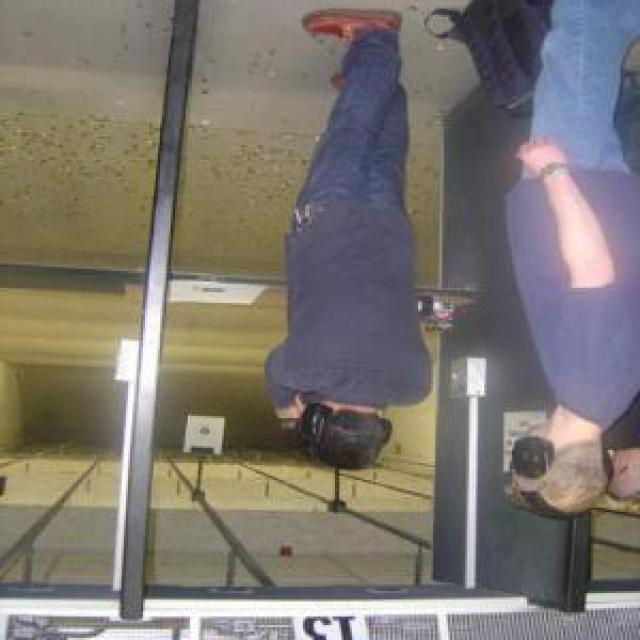pistol: (280, 413, 301, 433)
